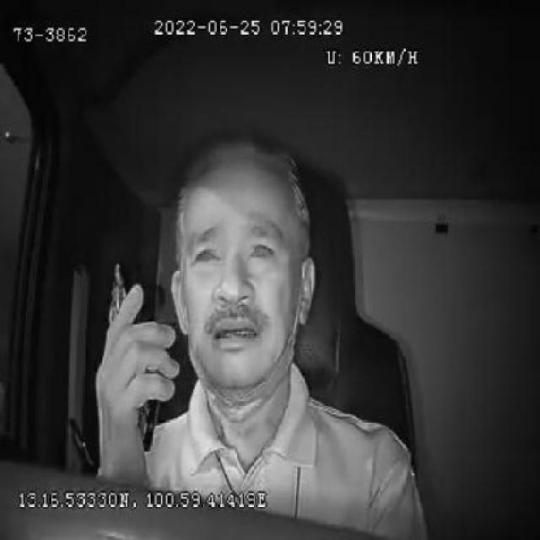phone: (105, 259, 163, 455)
